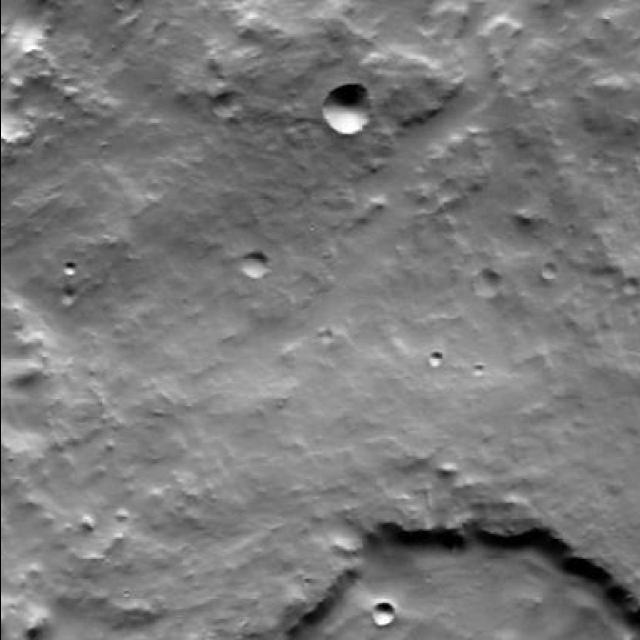crater: (324, 86, 374, 138), (474, 272, 500, 300), (248, 261, 272, 287), (374, 607, 394, 627), (536, 259, 552, 275)
